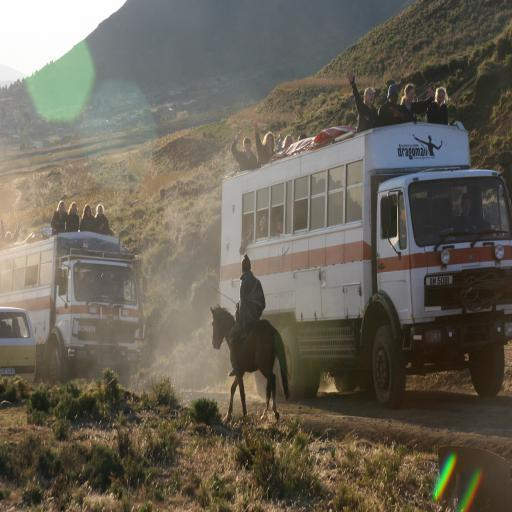horse: (210, 304, 290, 422)
